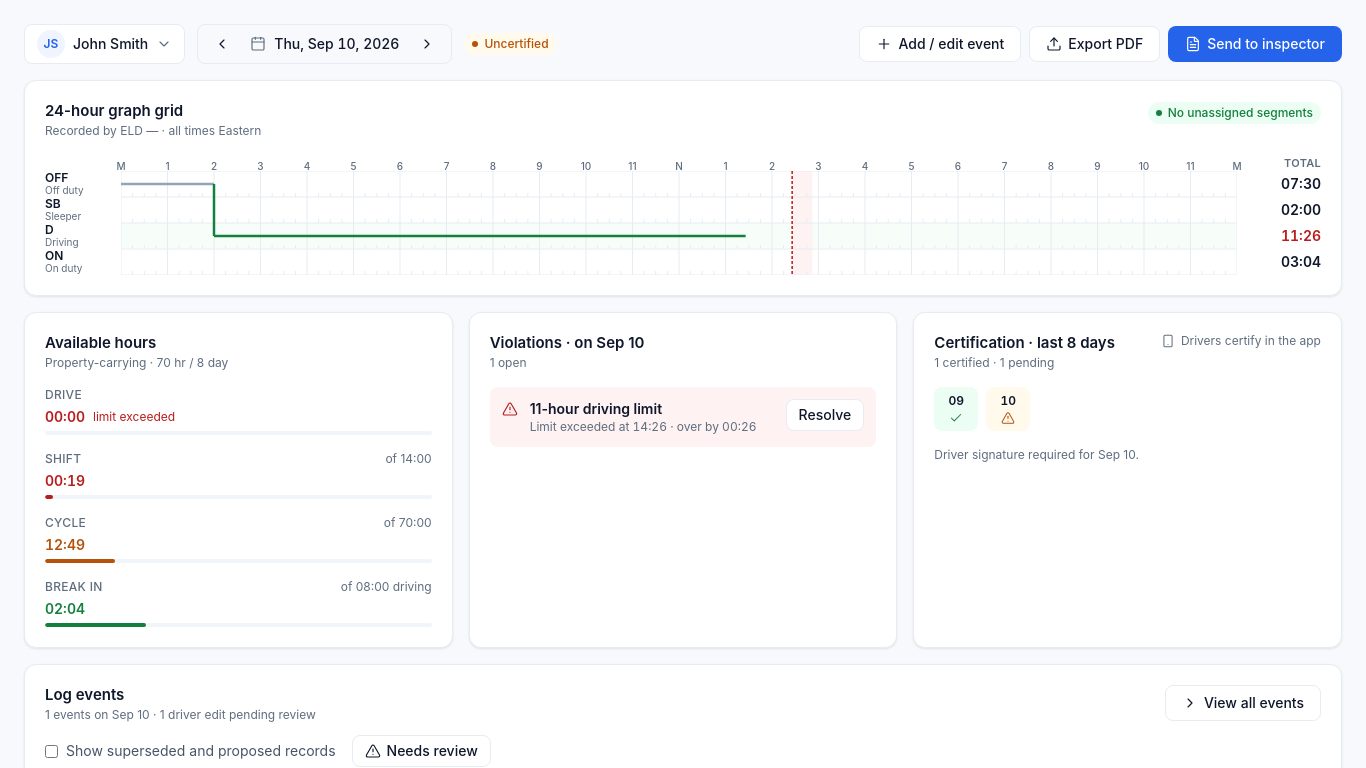
Test case: 11.11 · Request a log edit › rejects an annotation under 4 characters with the FMCSA error string
Click the button "Add / edit event" at (940, 44), box x1=860 y1=26 x2=1021 y2=62
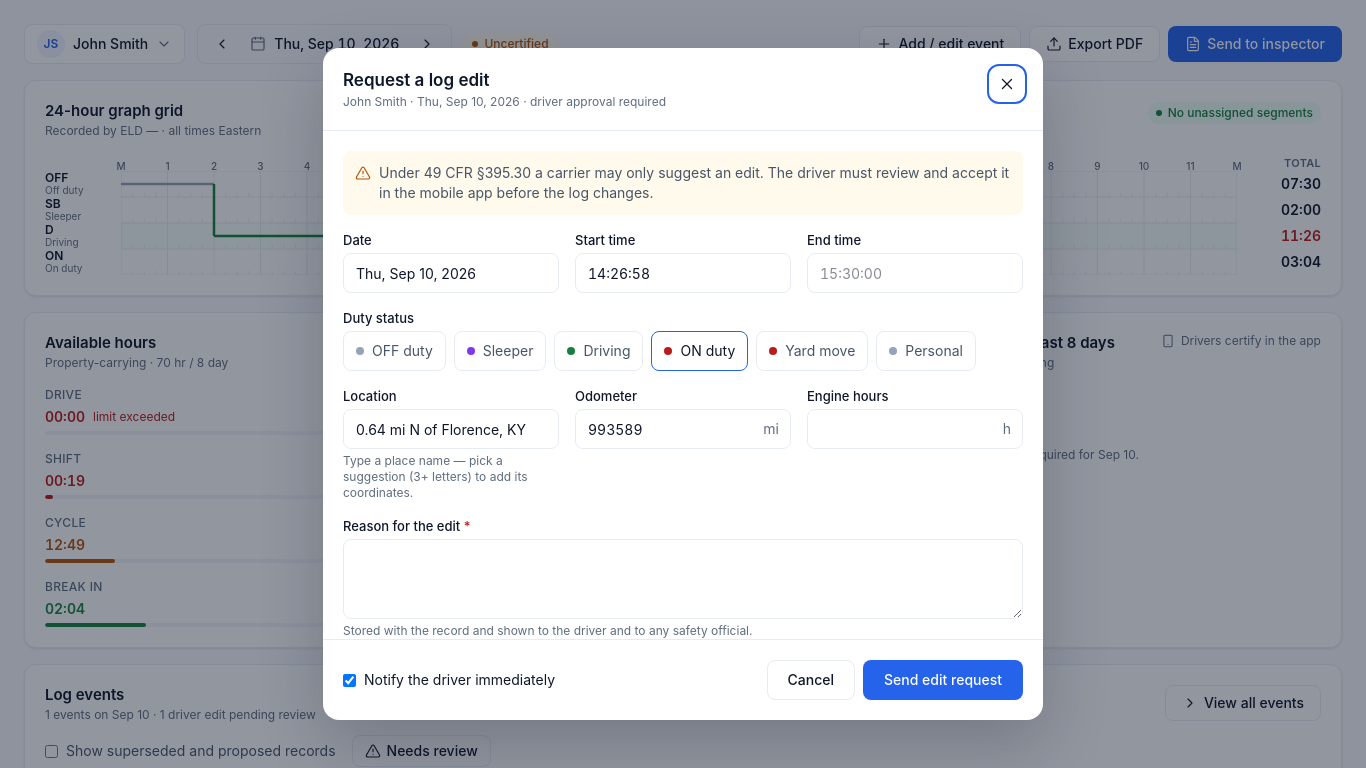
Type "ab" into the text box labelled "Reason for the edit *" at (683, 579), box x1=343 y1=539 x2=1023 y2=619
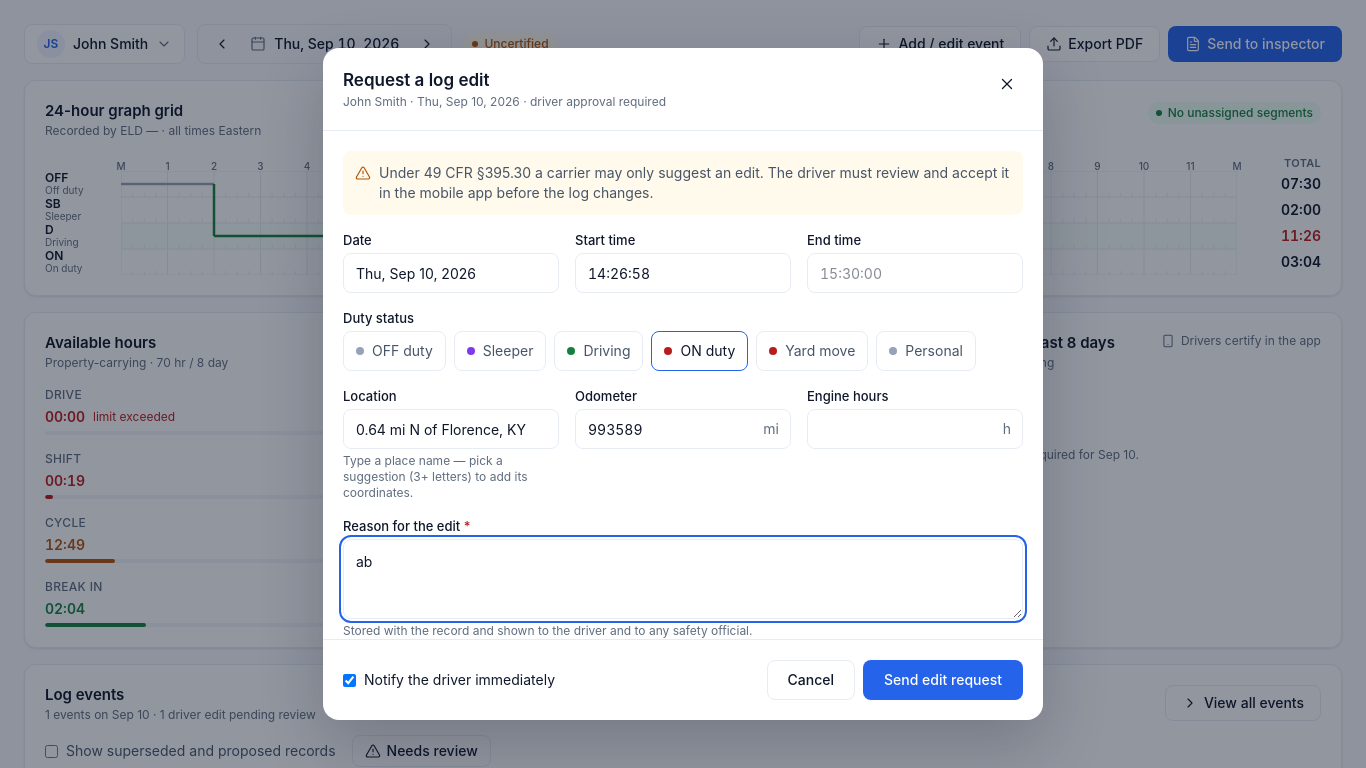
Click the button "Send edit request" at (943, 680), box x1=863 y1=660 x2=1023 y2=700
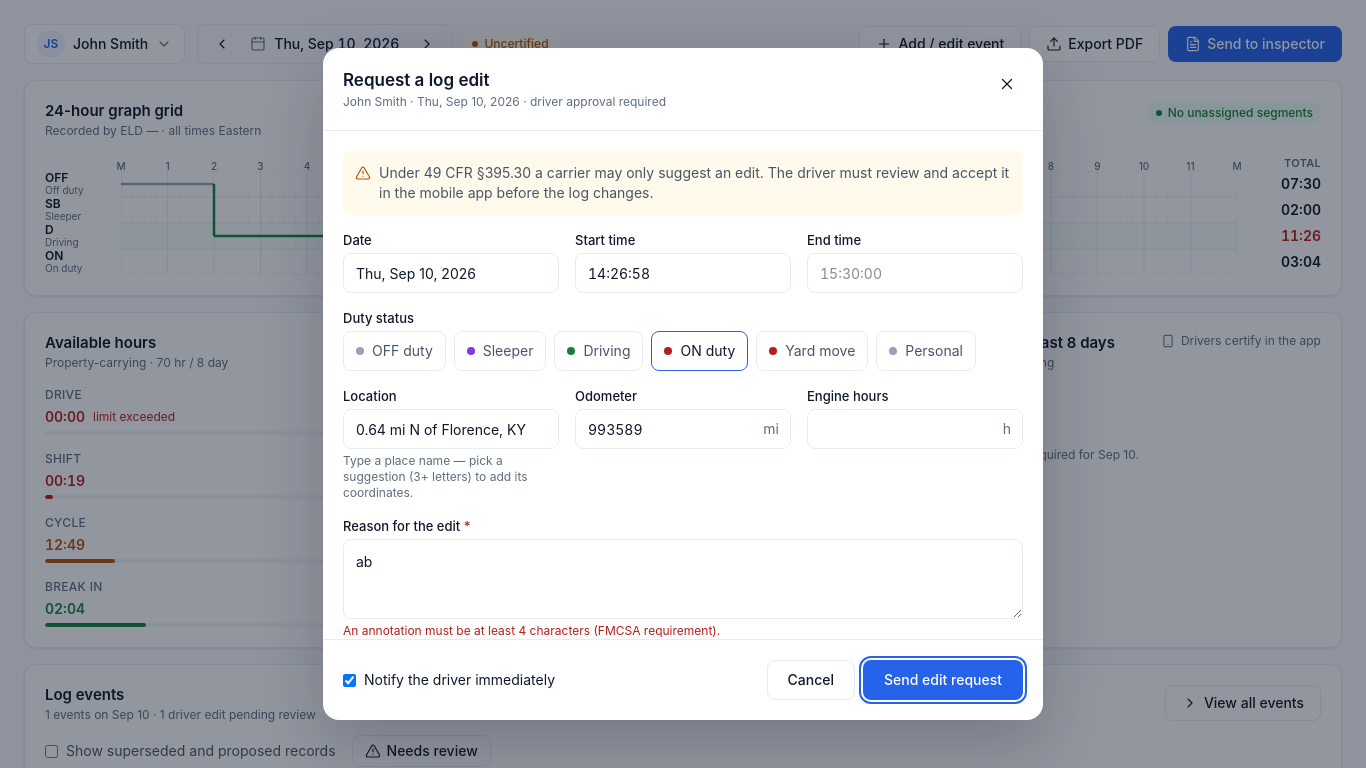
Now the text "An annotation must be at least 4 characters (FMCSA requirement)." is shown, box x1=343 y1=623 x2=720 y2=638
